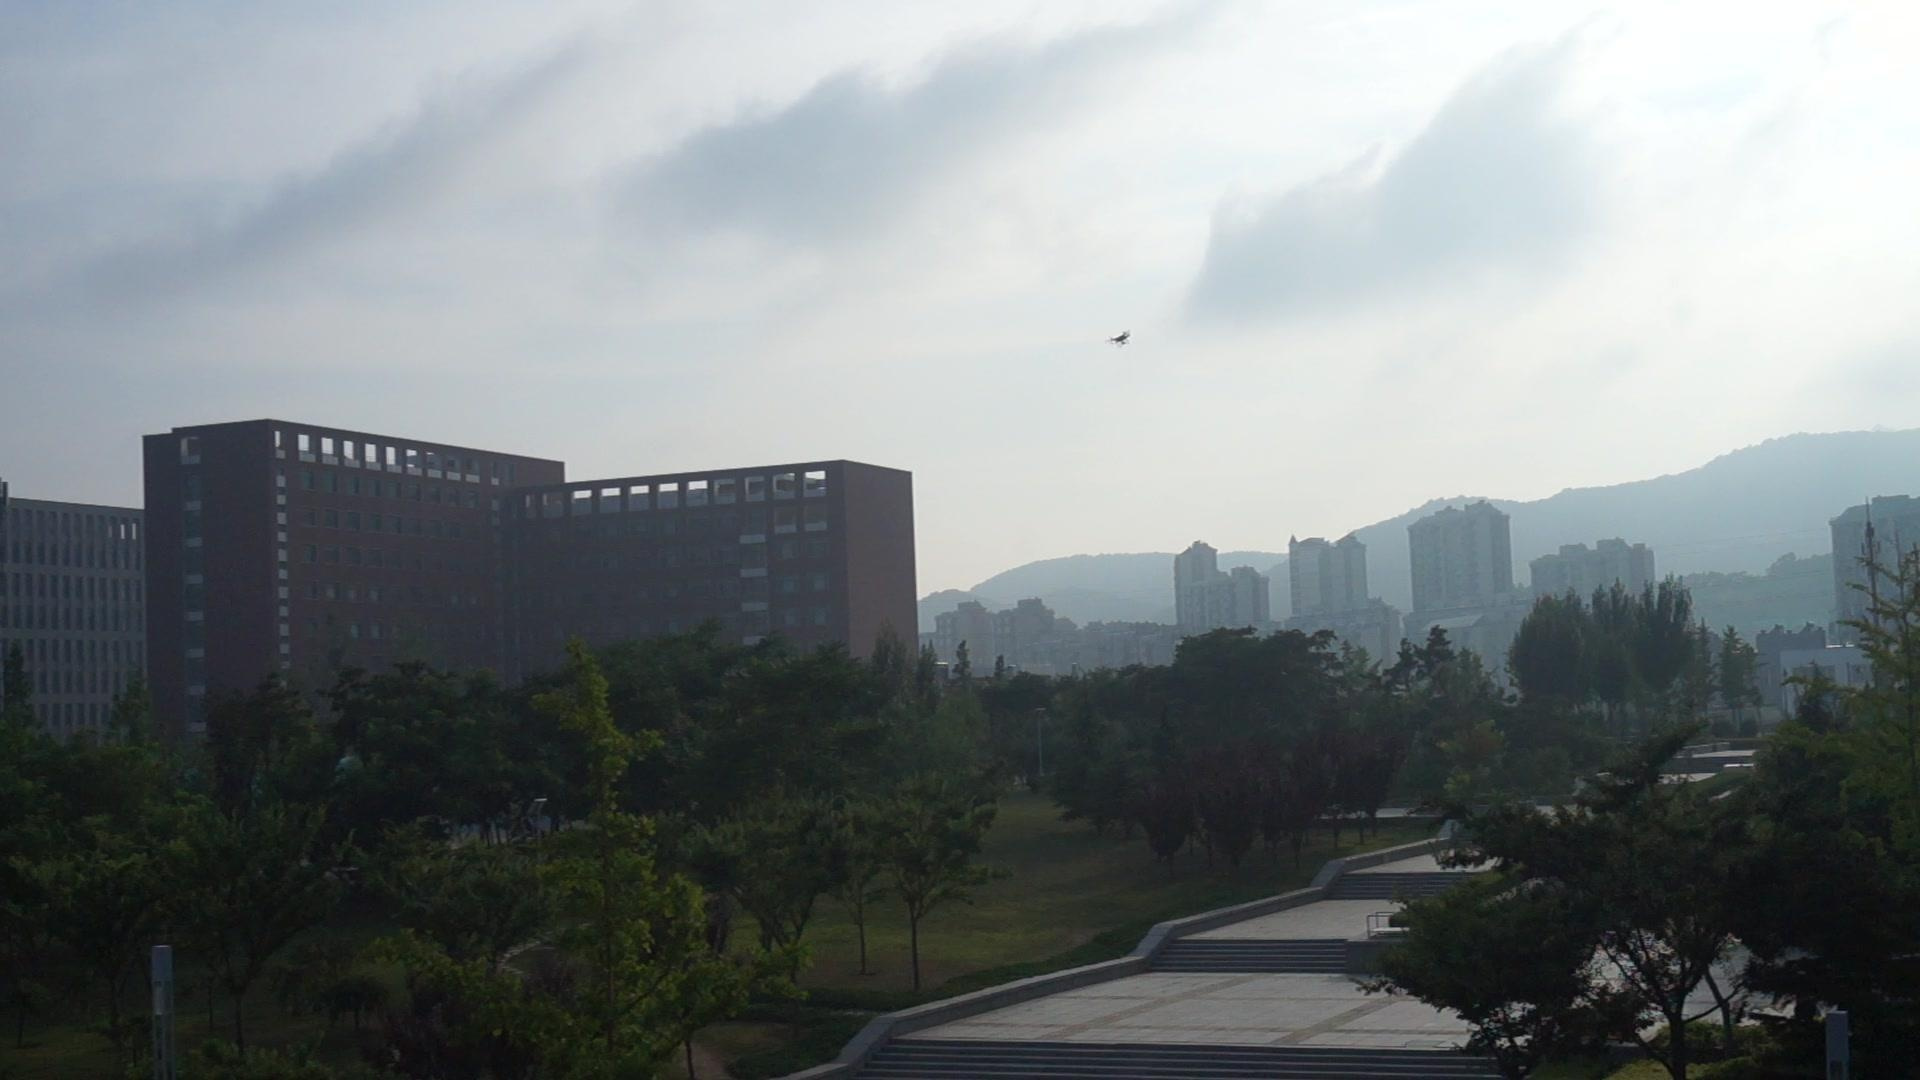UAV: (1105, 330, 1131, 348)
